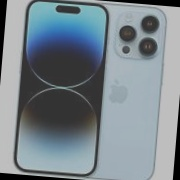samsung: (35, 16, 102, 176), (107, 133, 180, 175), (146, 3, 172, 57)
